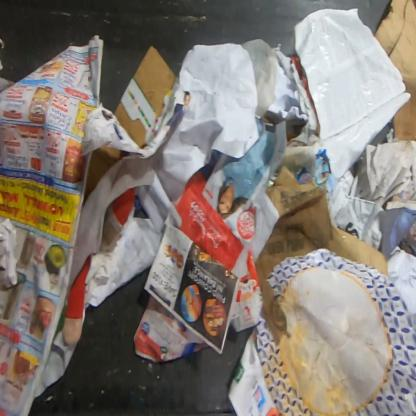cardboard: (255, 165, 389, 348), (113, 47, 177, 147), (375, 0, 416, 142), (84, 150, 126, 204)
